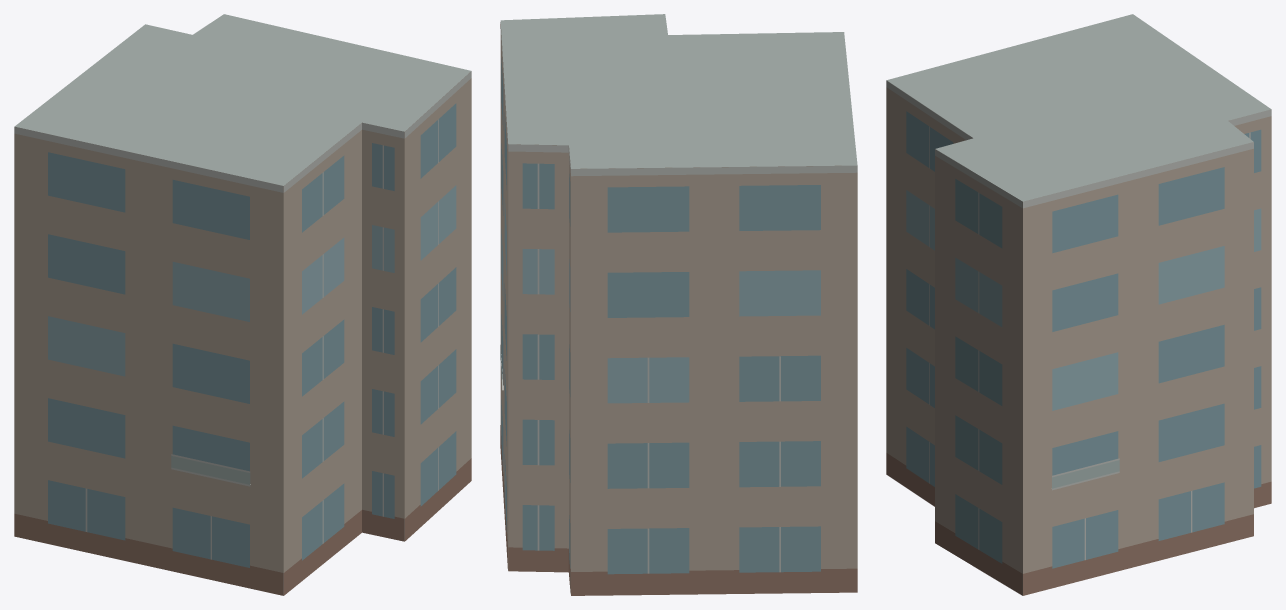
Rendered from survey-upis-32953575.glb.
The picture shows the model from 3 angles, left to right: view 1: azimuth 30°, elevation 25°; view 2: azimuth 150°, elevation 25°; view 3: azimuth 270°, elevation 25°; orthographic projection. The views are drawn at different scales.
Visible parts, largest first — view 1: survey-upis-32953575.tmp; view 2: survey-upis-32953575.tmp; view 3: survey-upis-32953575.tmp.
Part boxes in pixels (box(x1,y1,x2,y2)): survey-upis-32953575.tmp: box(14, 14, 471, 595); survey-upis-32953575.tmp: box(500, 14, 857, 595); survey-upis-32953575.tmp: box(886, 14, 1271, 595).
Bounding box in the file's own units: 14.61 × 14.3 × 12.68.
